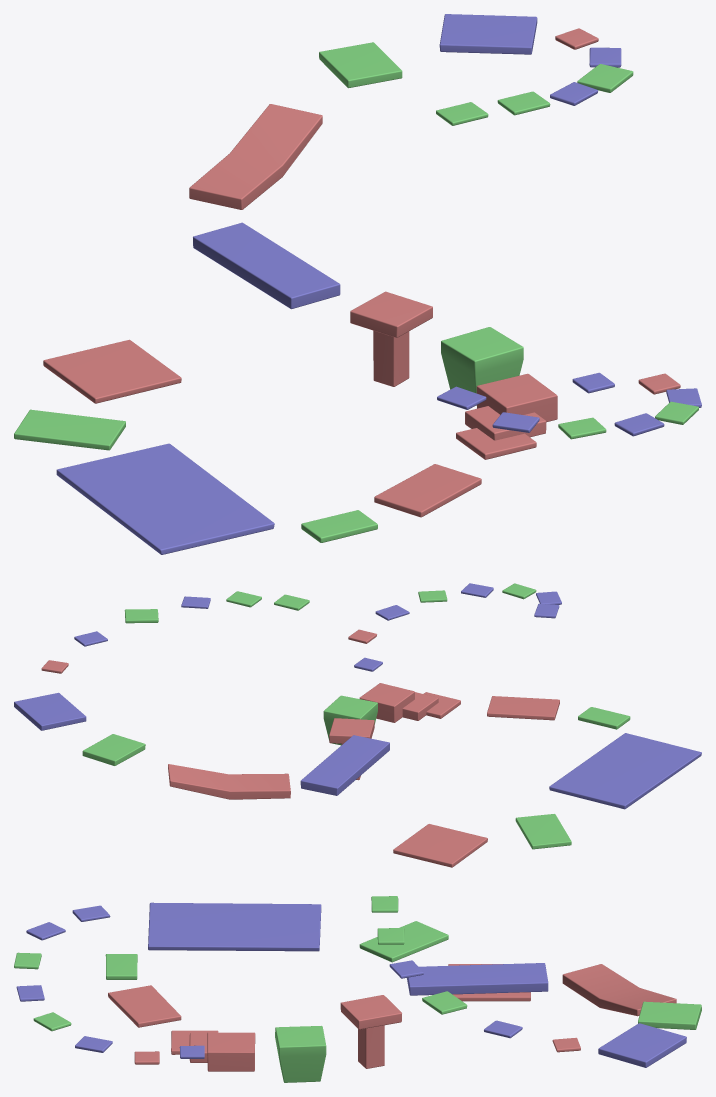
File: LevelPrototype_02.fbx
3 views of the same model, one above another, from view 1: azimuth 30°, elevation 25°; view 2: azimuth 150°, elevation 25°; view 3: azimuth 270°, elevation 25° (orthographic). The views are drawn at different scales.
Visible parts, largest first — view 1: level_prototype_02_01_003, level_prototype_02_01_010, level_prototype_02_01_009, level_prototype_02_01_006, level_prototype_02_01_001, level_prototype_02_01_008, level_prototype_02_01_007, level_prototype_02_01_012, level_prototype_02_01_002, level_prototype_02_01_005, level_prototype_02_01_011, level_prototype_02_01_004 (+1 smaller); view 2: level_prototype_02_01_003, level_prototype_02_01_010, level_prototype_02_01_009, level_prototype_02_01_001, level_prototype_02_01_006, level_prototype_02_01_012, level_prototype_02_01_005, level_prototype_02_01_002, level_prototype_02_01_011, level_prototype_02_01_007, level_prototype_02_01_008, level_prototype_02_01_004 (+1 smaller); view 3: level_prototype_02_01_003, level_prototype_02_01_009, level_prototype_02_01_010, level_prototype_02_01_006, level_prototype_02_01_007, level_prototype_02_01_008, level_prototype_02_01_012, level_prototype_02_01_005, level_prototype_02_01_002, level_prototype_02_01_011, level_prototype_02_01_004, level_prototype_02_01_001 (+14 smaller).
Boxes of the visible parts, x1,y1,x2,y2 form: level_prototype_02_01_003: (56,443,274,554); level_prototype_02_01_010: (189,104,322,209); level_prototype_02_01_009: (193,222,340,309); level_prototype_02_01_006: (456,373,557,459); level_prototype_02_01_001: (43,339,181,403); level_prototype_02_01_008: (350,291,432,386); level_prototype_02_01_007: (441,327,523,405); level_prototype_02_01_012: (439,14,537,54); level_prototype_02_01_002: (14,409,125,450); level_prototype_02_01_005: (374,464,481,517); level_prototype_02_01_011: (319,42,402,88); level_prototype_02_01_004: (301,510,377,542); level_prototype_02_01_003: (549,733,701,809); level_prototype_02_01_010: (168,764,290,799); level_prototype_02_01_009: (300,735,389,795); level_prototype_02_01_001: (393,824,487,867); level_prototype_02_01_006: (359,683,460,722); level_prototype_02_01_012: (14,692,86,730); level_prototype_02_01_005: (487,696,559,720); level_prototype_02_01_002: (515,814,571,849); level_prototype_02_01_011: (82,734,145,765); level_prototype_02_01_007: (323,695,377,745); level_prototype_02_01_008: (329,718,374,780); level_prototype_02_01_004: (578,707,630,729); level_prototype_02_01_003: (148,902,321,951); level_prototype_02_01_009: (407,963,548,995); level_prototype_02_01_010: (562,964,676,1016); level_prototype_02_01_006: (171,1030,255,1071); level_prototype_02_01_007: (275,1026,326,1082); level_prototype_02_01_008: (340,995,401,1068); level_prototype_02_01_012: (598,1023,686,1067); level_prototype_02_01_005: (108,985,181,1027); level_prototype_02_01_002: (359,921,448,962); level_prototype_02_01_011: (638,1001,701,1029); level_prototype_02_01_004: (105,954,137,979); level_prototype_02_01_001: (448,964,530,1001).
Size of the model in its own units: 214 by 71.44 by 232.
